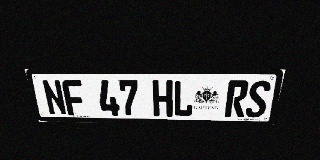4: (97, 80, 120, 116)
7: (117, 80, 140, 116)
F: (61, 80, 87, 116)
H: (152, 80, 173, 117)
L: (173, 80, 194, 117)
N: (41, 80, 68, 115)
R: (224, 81, 250, 117)
S: (245, 81, 272, 118)
